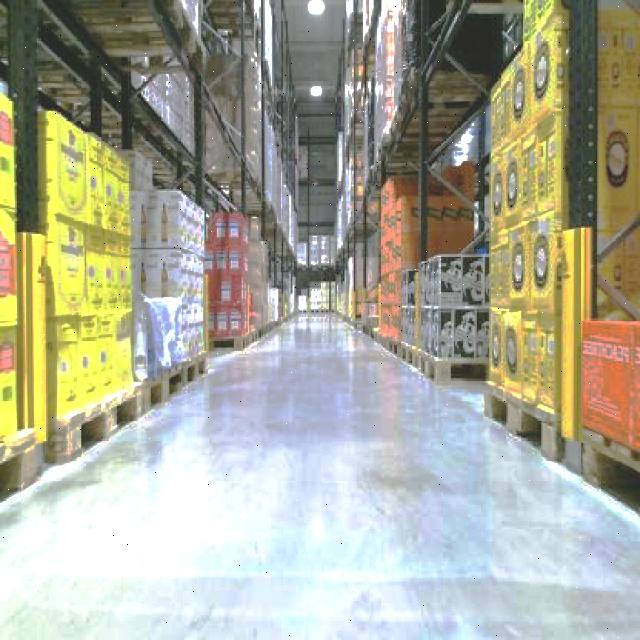ground: (0, 308, 638, 638)
pallet: (343, 0, 638, 637), (0, 58, 211, 557), (482, 0, 638, 522), (37, 106, 135, 460), (375, 169, 475, 348), (577, 314, 638, 515), (397, 251, 488, 382), (203, 208, 252, 349)
